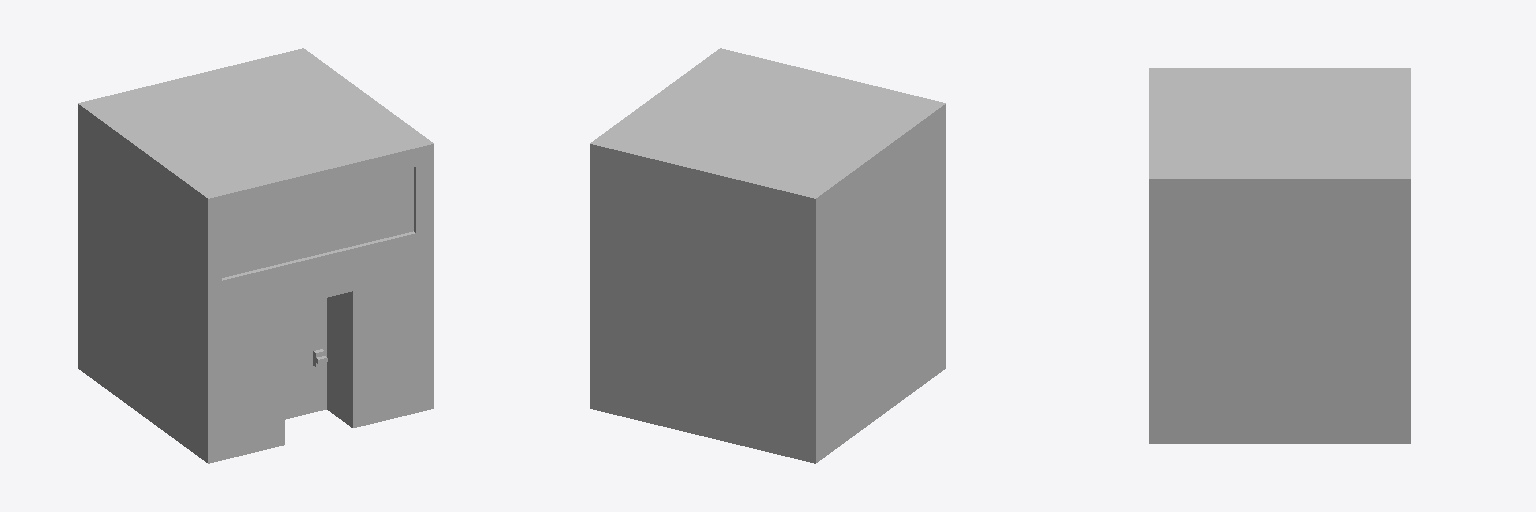
Rendered from first_building.obj.
3 views of the same model, side by side, from view 1: azimuth 30°, elevation 25°; view 2: azimuth 150°, elevation 25°; view 3: azimuth 270°, elevation 25° (orthographic).
Visible parts, largest first — view 1: object 1; view 2: object 1; view 3: object 1.
Boxes of the visible parts, <box> form: object 1: <box>78,48,433,463</box>; object 1: <box>590,48,945,463</box>; object 1: <box>1149,68,1410,443</box>.
Bounding box in the file's own units: 5 × 5.6 × 5.